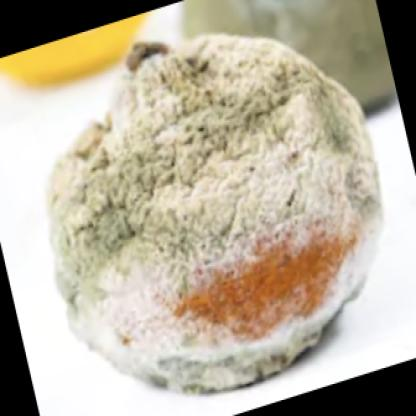rotten: (55, 33, 377, 394)
